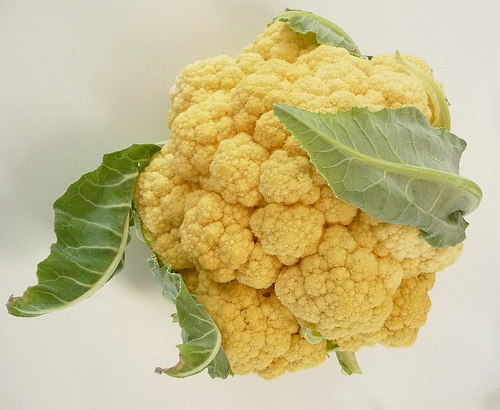cauliflower: (132, 11, 468, 380)
